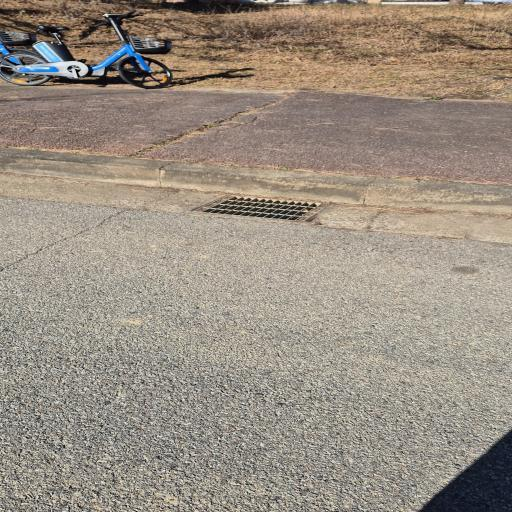drain: (190, 194, 329, 222)
